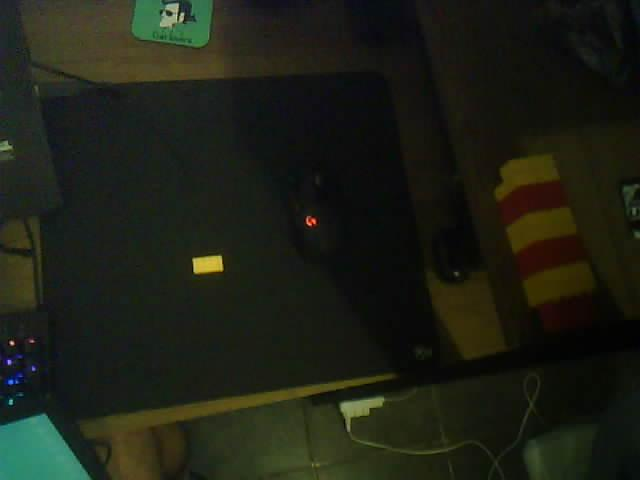lego: (493, 153, 595, 329), (191, 254, 224, 275)
